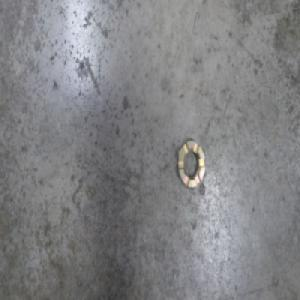Nut: (176, 136, 205, 191)
